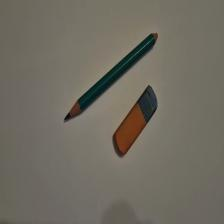eraser: (114, 85, 159, 156)
pencil: (65, 34, 159, 122)
